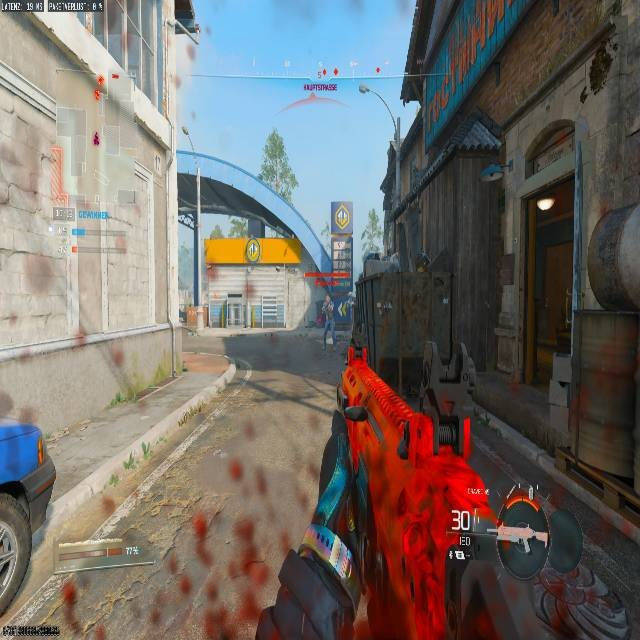player: (320, 295, 336, 347)
